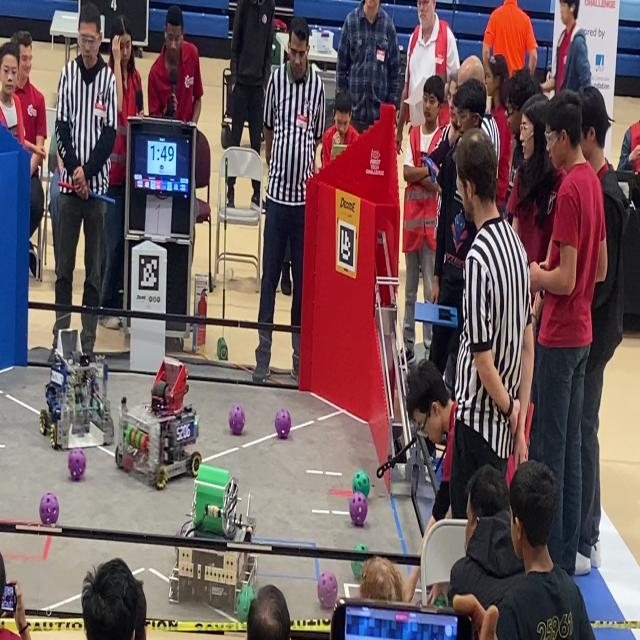artifact_green: (237, 585, 255, 622), (353, 469, 370, 497), (351, 560, 363, 580), (434, 594, 447, 608), (135, 430, 144, 449), (129, 428, 138, 446), (124, 426, 132, 445)
artifact_purple: (318, 572, 338, 609), (40, 494, 59, 525), (350, 492, 367, 526), (68, 448, 85, 481), (275, 409, 291, 439), (229, 405, 244, 435), (176, 523, 191, 536), (176, 526, 182, 536)
